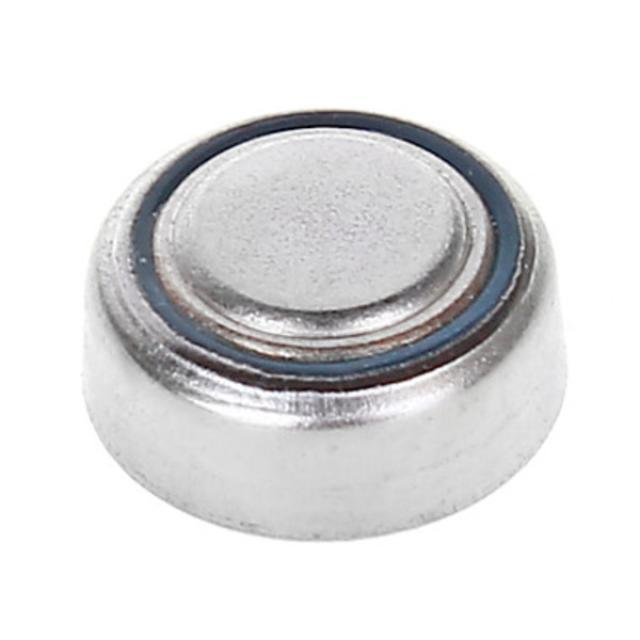COIN: (80, 105, 569, 542)
